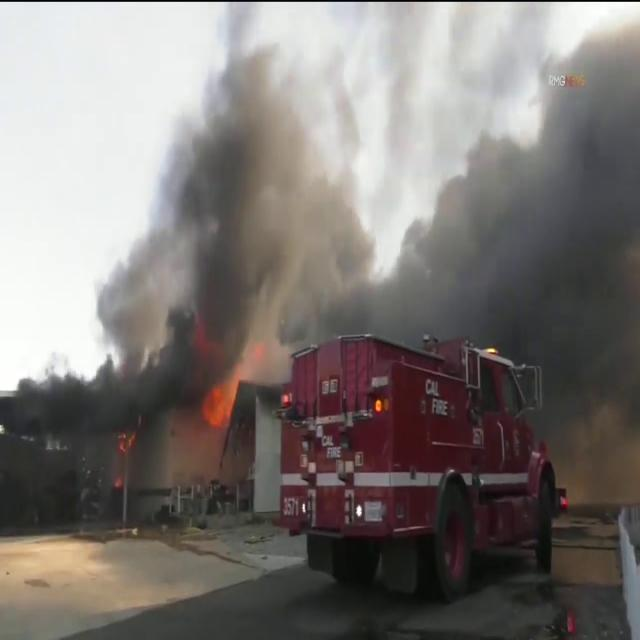Fire: (200, 362, 243, 432)
Smoke: (88, 3, 370, 393), (391, 2, 640, 428)
